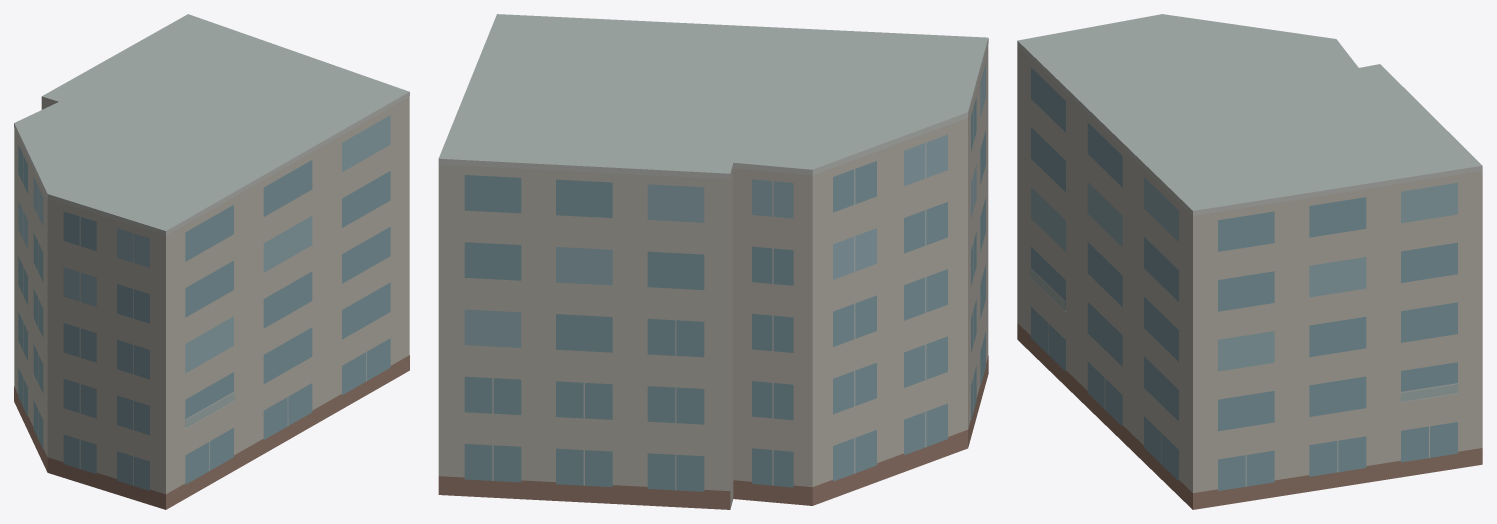
File: survey-upis-32497619.glb
The picture shows the model from 3 angles, left to right: view 1: azimuth 30°, elevation 25°; view 2: azimuth 150°, elevation 25°; view 3: azimuth 270°, elevation 25°; orthographic projection. The views are drawn at different scales.
Parts seen in each view (by area): view 1: survey-upis-32497619.tmp; view 2: survey-upis-32497619.tmp; view 3: survey-upis-32497619.tmp.
Part boxes in pixels (x1,y1,x2,y2): survey-upis-32497619.tmp: (14, 14, 409, 509); survey-upis-32497619.tmp: (438, 14, 988, 509); survey-upis-32497619.tmp: (1017, 14, 1482, 509).
Bounding box in the file's own units: 20.64 × 14.6 × 20.6.
